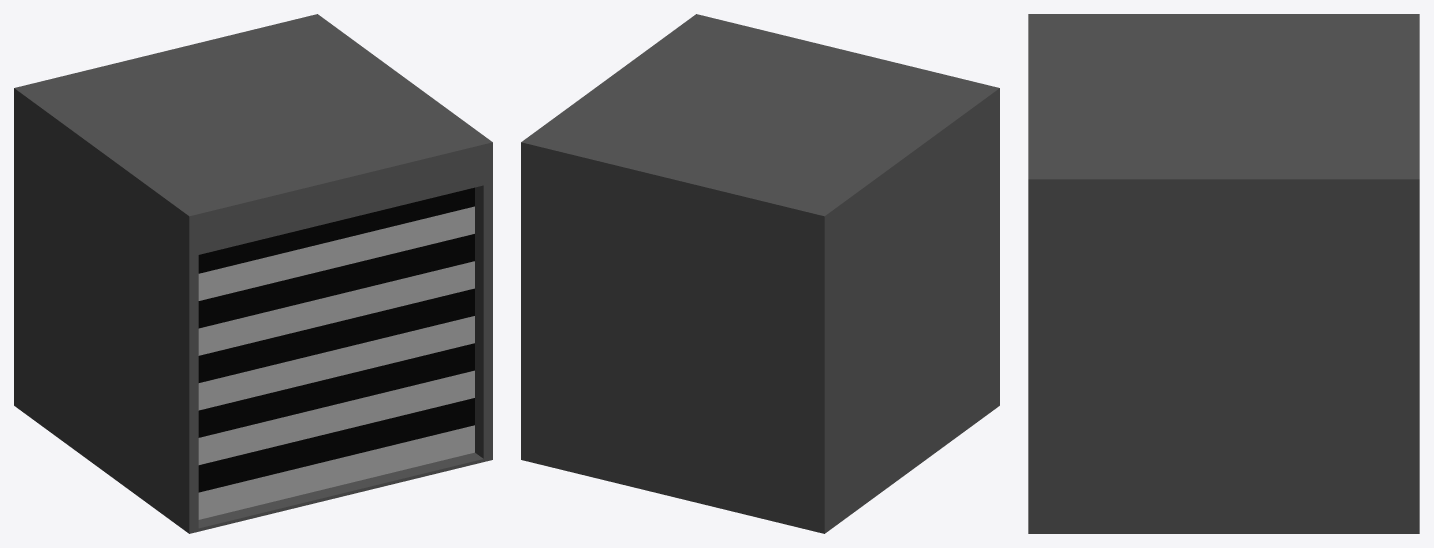
File: Garage.fbx
The picture shows the model from 3 angles, left to right: view 1: azimuth 30°, elevation 25°; view 2: azimuth 150°, elevation 25°; view 3: azimuth 270°, elevation 25°; orthographic projection. The views are drawn at different scales.
Visible parts, largest first — view 1: Cube.023; view 2: Cube.023; view 3: Cube.023.
Boxes of the visible parts, x1,y1,x2,y2 form: Cube.023: (14,14,492,533); Cube.023: (521,14,999,533); Cube.023: (1028,14,1419,533).
Size of the model in its own units: 1000 by 1000 by 1000.
